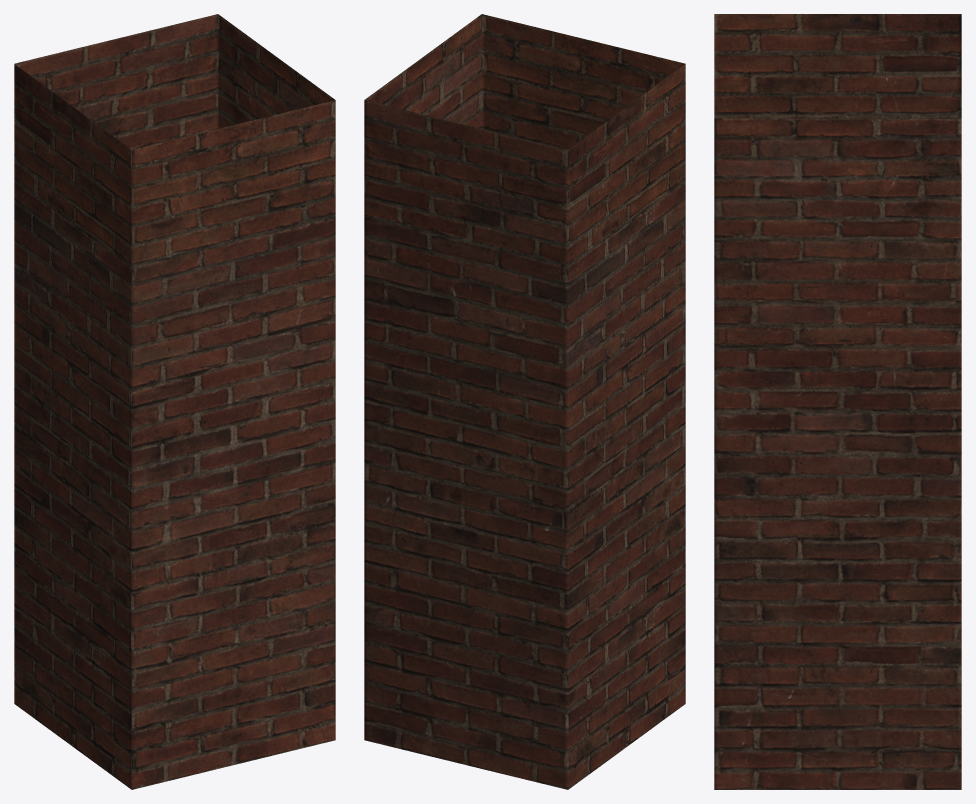
The model's file is wall_pillar_large.fbx.
3 views of the same model, side by side, from view 1: azimuth 30°, elevation 25°; view 2: azimuth 150°, elevation 25°; view 3: azimuth 270°, elevation 25° (orthographic). The views are drawn at different scales.
Parts seen in each view (by area): view 1: wall_pillar_large; view 2: wall_pillar_large; view 3: wall_pillar_large.
Boxes of the visible parts, x1,y1,x2,y2 form: wall_pillar_large: (14,14,335,789); wall_pillar_large: (364,14,685,789); wall_pillar_large: (714,14,961,789).
Bounding box in the file's own units: 0.64 × 1.92 × 0.64.
